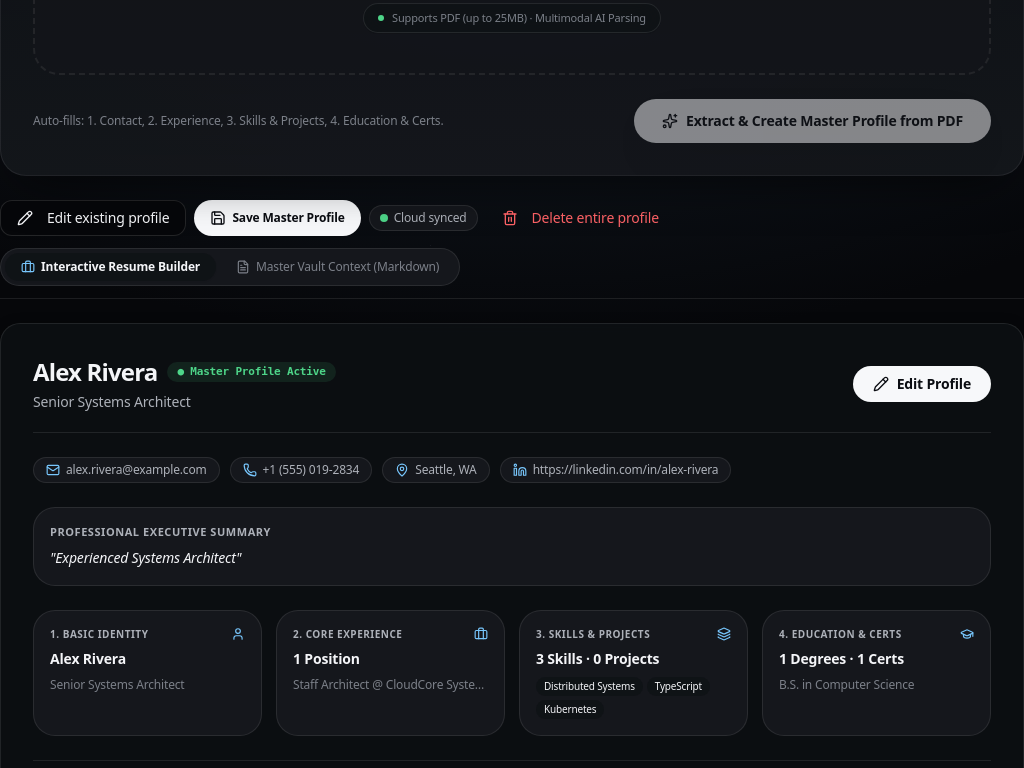
Test: ProfileBuilderView - Progressive Disclosure › clicking "Edit Profile" uncollapses the 4 guided steps/accordions
(page scrolled)
// Click Edit Profile trigger
Click the button "Edit Profile": {"x": 922, "y": 384} [853, 366, 991, 402]
(page scrolled)
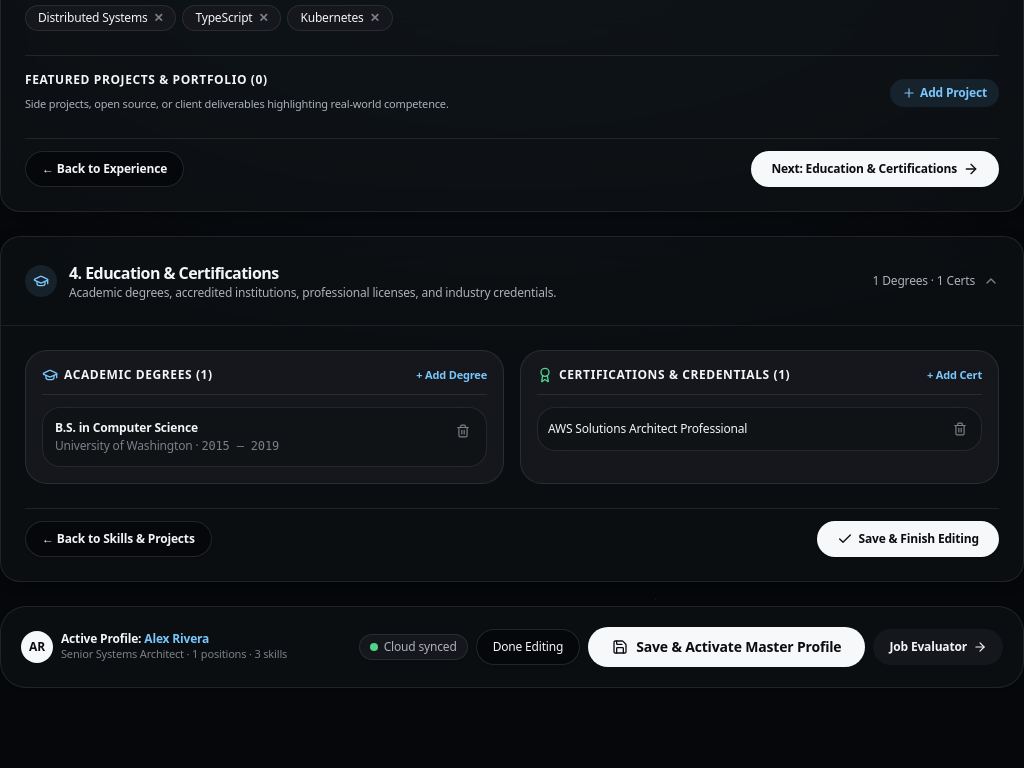
Expected: the text "Distributed Systems" is shown, [38, 10, 148, 26]
Result: the heading "4. Education & Certifications" is shown at [69, 262, 279, 284]
Result: the text "AWS Solutions Architect Professional" is shown at [548, 421, 747, 437]
